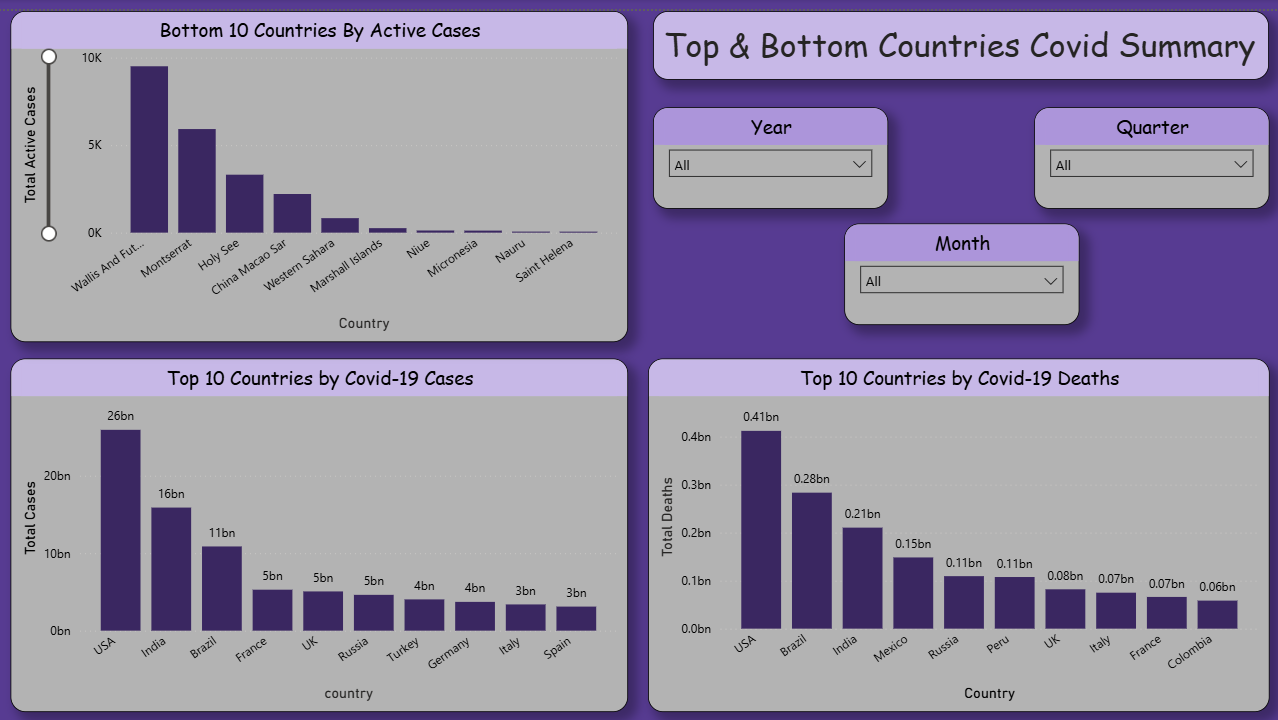

What the dashboard file says about the page in this screenshot:
{"tool":"powerbi","page":{"name":"Top & Bottom Performers","canvas":[1280,720],"ordinal":3},"visuals":[{"type":"columnChart","title":"Top 10 Countries by Covid-19 Cases","fields":{"Category":["worldometer_coronavirus_daily_data.country"],"Y":["Sum(worldometer_coronavirus_daily_data.cumulative_total_cases)"]},"box":[12.5,347.5,617.5,353.8],"z":0},{"type":"columnChart","title":"Top 10 Countries by Covid-19 Deaths","fields":{"Category":["worldometer_coronavirus_daily_data.country"],"Y":["Sum(worldometer_coronavirus_daily_data.cumulative_total_deaths)"]},"box":[650,347.5,621.2,353.8],"z":1000},{"type":"columnChart","title":"Bottom 10 Countries By Active Cases","fields":{"Category":["worldometer_coronavirus_daily_data.country"],"Y":["Sum(worldometer_coronavirus_daily_data.active_cases)"]},"box":[12.5,0,617.5,331.2],"z":2000},{"type":"textbox","box":[655,0,616.2,68.8],"z":2001},{"type":"slicer","title":"Quarter","fields":{"Values":["worldometer_coronavirus_daily_data.date.Variation.Date Hierarchy.Quarter"]},"box":[1036.2,96.2,235,101.2],"z":2003},{"type":"slicer","title":"Year","fields":{"Values":["worldometer_coronavirus_daily_data.date.Variation.Date Hierarchy.Year"]},"box":[655,96.2,235,101.2],"z":2005},{"type":"slicer","title":"Month","fields":{"Values":["worldometer_coronavirus_daily_data.date.Variation.Date Hierarchy.Month"]},"box":[846.2,212.5,235,101.2],"z":2006}]}

Visuals, with their boxes in screenshot pixels (x1, y1, x2, y2), scaled from the page's 1280x720 canvas onto the 1278x720 screenshot:
"Top 10 Countries by Covid-19 Cases" columnChart: (x1=12, y1=348, x2=629, y2=701)
"Top 10 Countries by Covid-19 Deaths" columnChart: (x1=649, y1=348, x2=1269, y2=701)
"Bottom 10 Countries By Active Cases" columnChart: (x1=12, y1=0, x2=629, y2=331)
textbox: (x1=654, y1=0, x2=1269, y2=69)
"Quarter" slicer: (x1=1035, y1=96, x2=1269, y2=197)
"Year" slicer: (x1=654, y1=96, x2=889, y2=197)
"Month" slicer: (x1=845, y1=212, x2=1080, y2=314)
